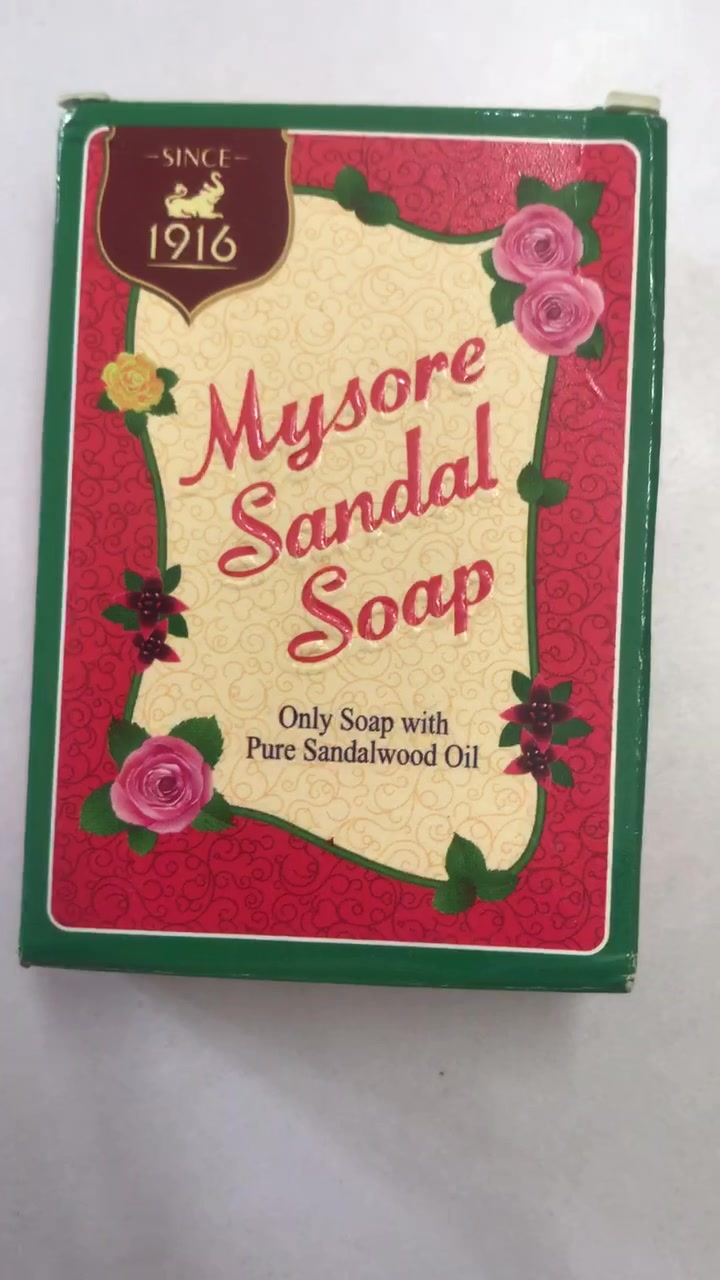mysore sandal soap: (63, 100, 630, 978)
